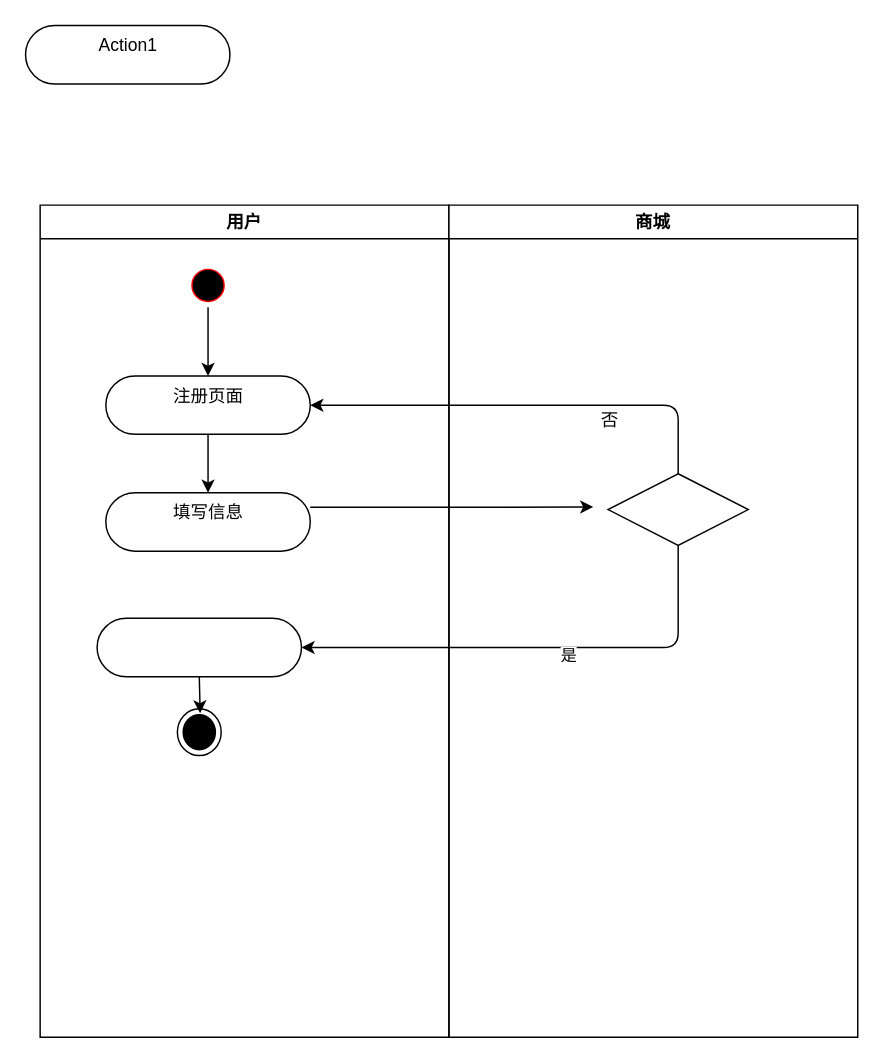
This 883x1063 diagram has some shape labels left out. The shapes that lost their labels are listed below. From the top down, each one's centre as x and y in pixels, then its label:
At pixel 677 508: "信息是否正确".
At pixel 198 647: "注册成功页面".
